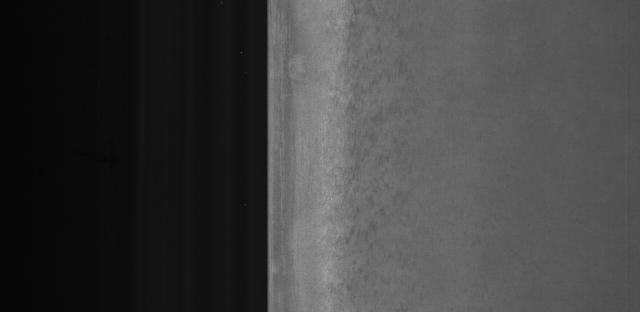silk_spot: (342, 57, 404, 259)
